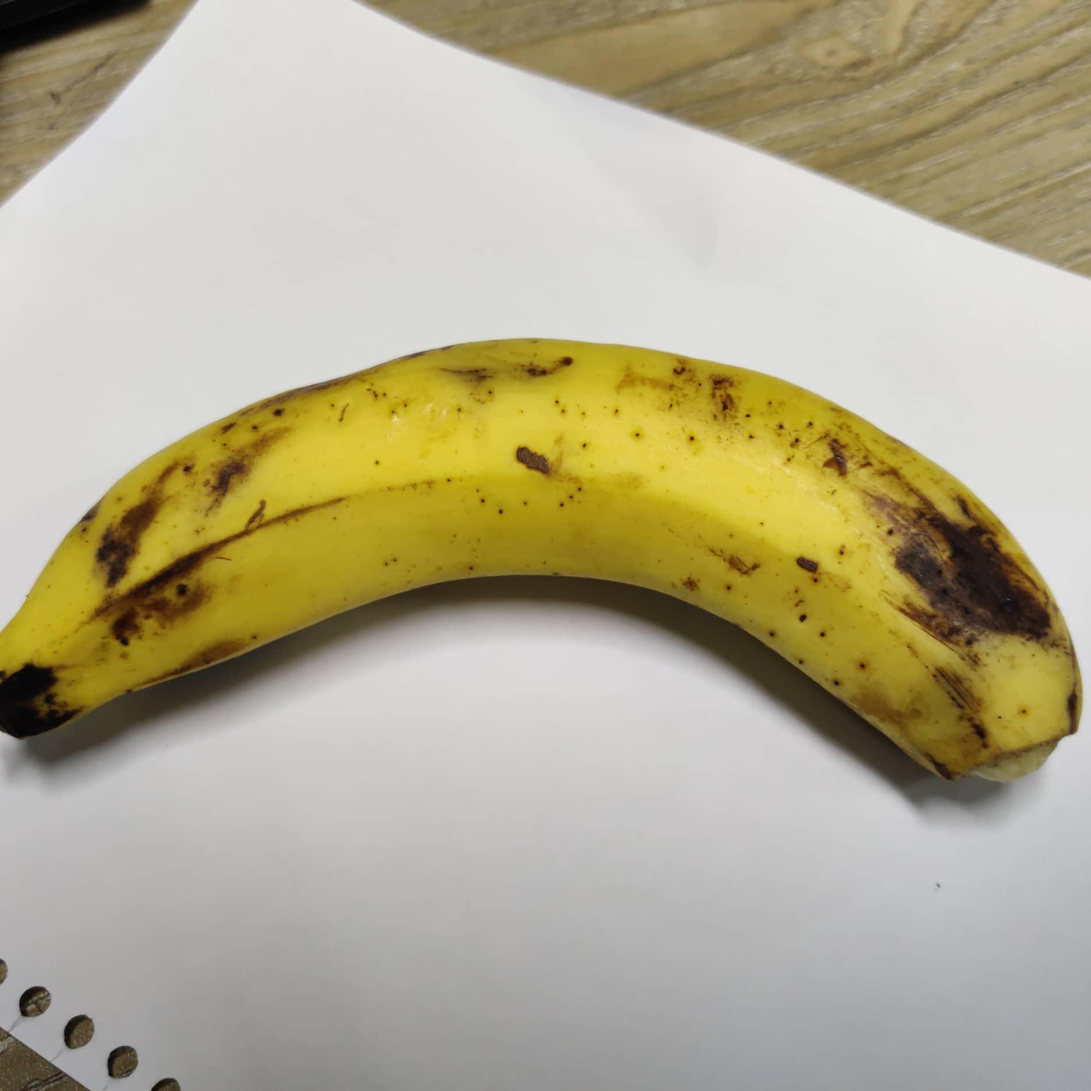Banana Ripe: (9, 320, 1088, 864)
